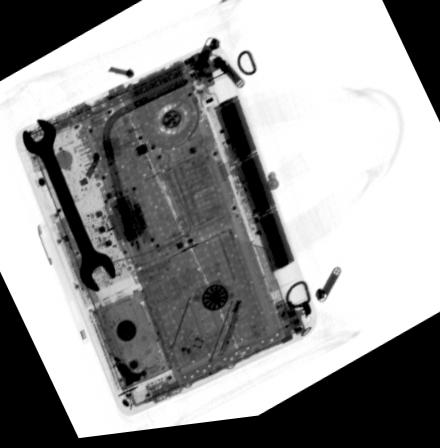Wrench: (19, 119, 117, 297)
